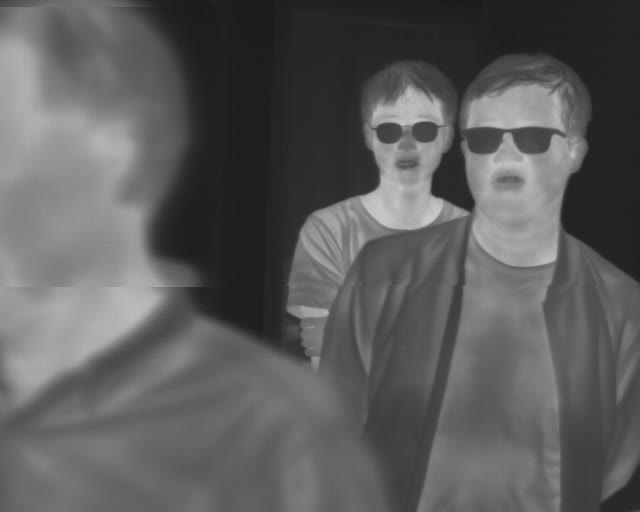face: (460, 50, 592, 229), (358, 58, 456, 189)
